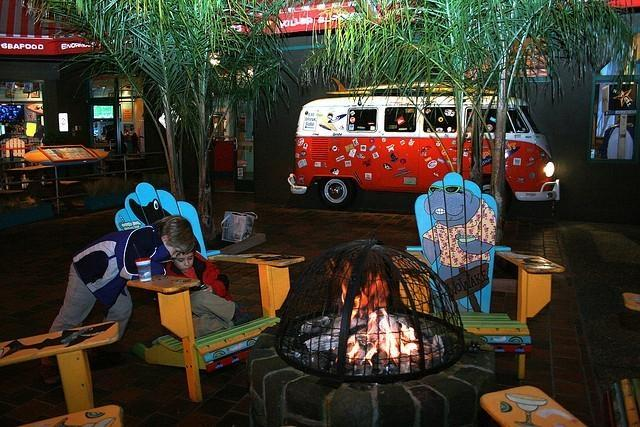bus: (288, 80, 562, 214)
